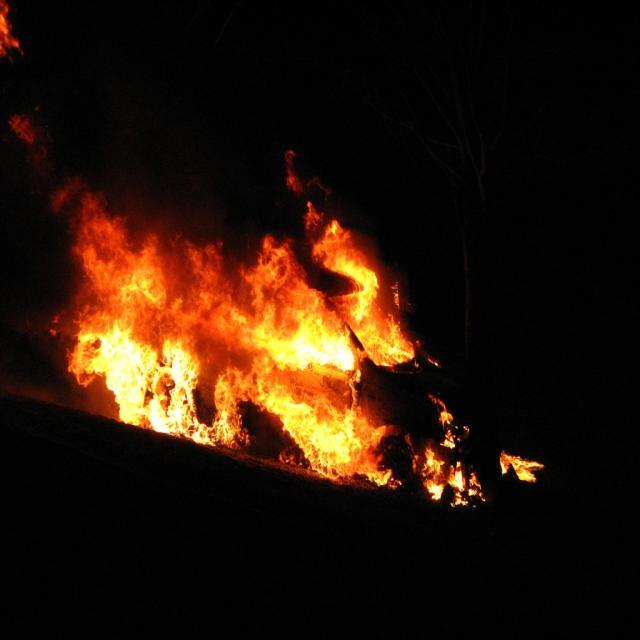Fire: (82, 242, 286, 326), (90, 325, 152, 405), (311, 400, 371, 473), (295, 315, 355, 380)
